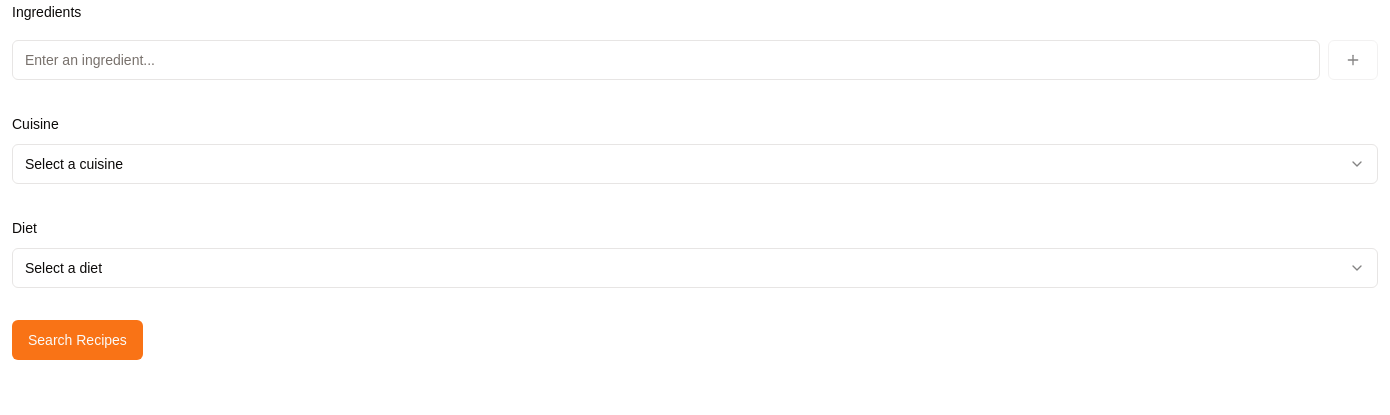
Test: SpecificSearch › adds and removes ingredients
Type "tomato" into the field with placeholder "Enter an ingredient..." at (666, 60), box [12, 40, 1320, 80]
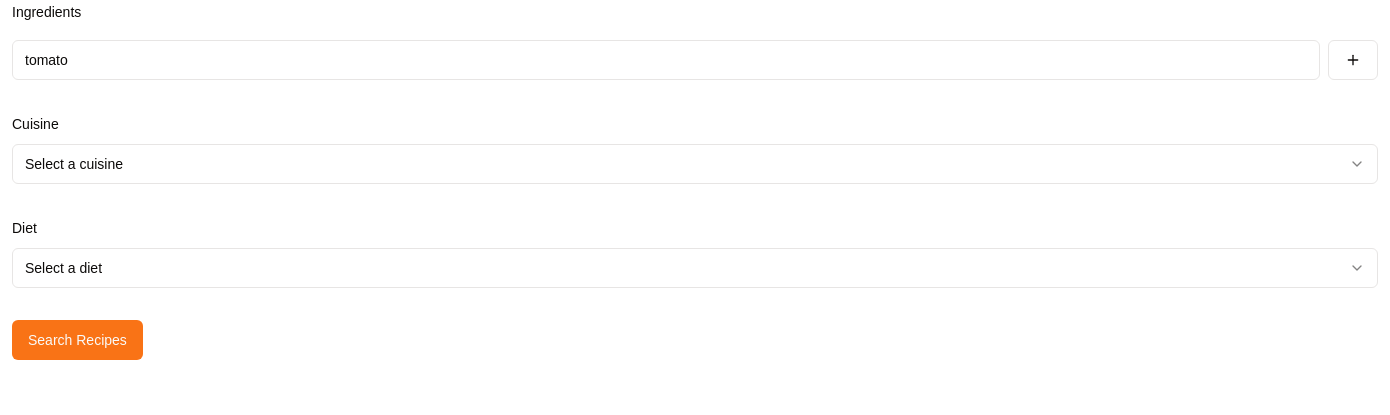
Click the 1st button at (1353, 60), box [1328, 40, 1378, 80]
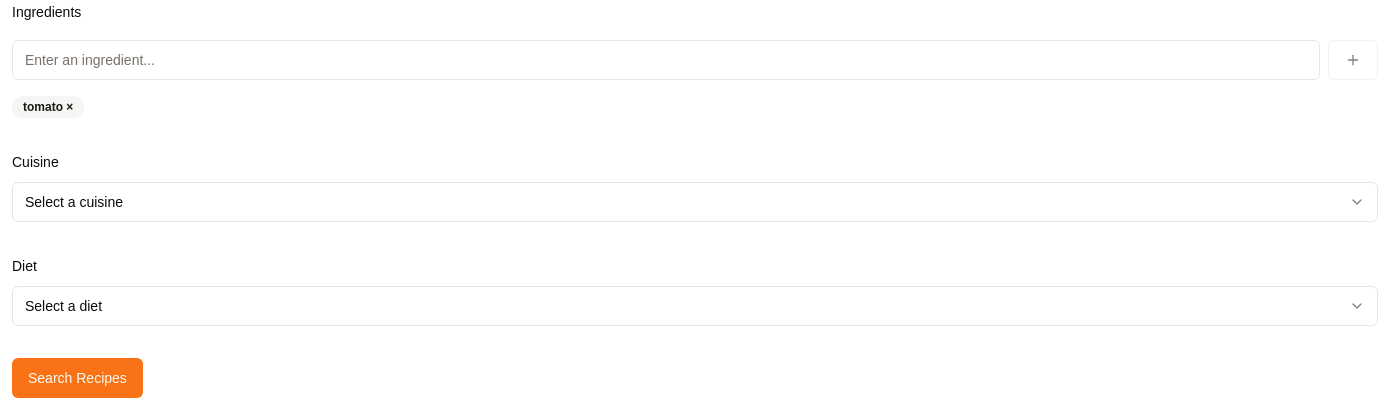
Result: the text "tomato ×" is shown
Click the text "tomato ×" at (48, 107), box [12, 96, 84, 118]
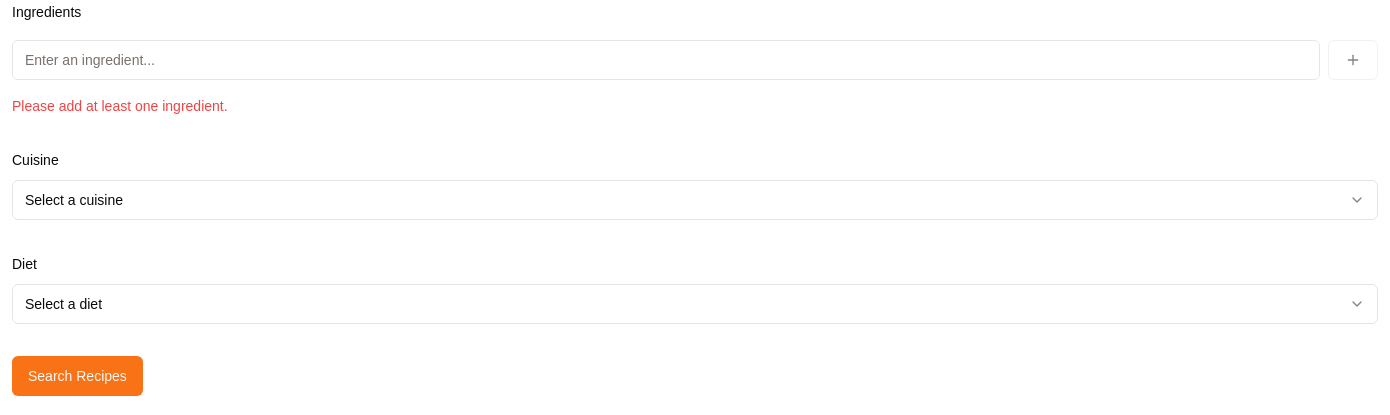
Result: the text "tomato ×" is gone
